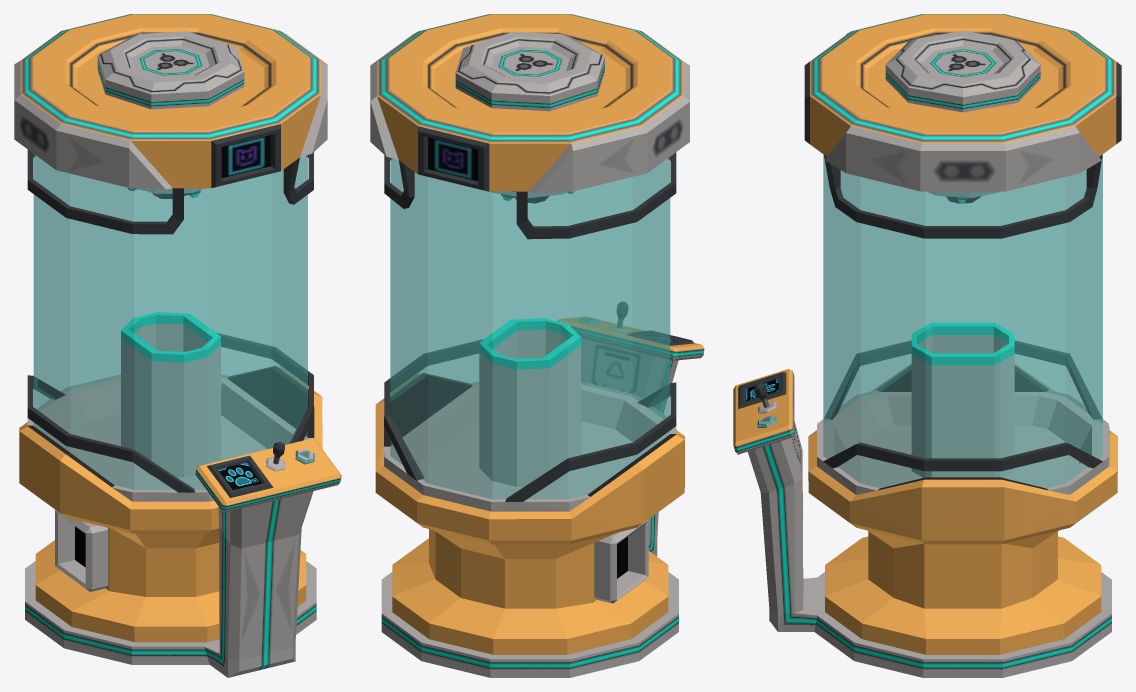
The model's file is SM_Prop_Claw_Machine_01.fbx.
3 views of the same model, side by side, from view 1: azimuth 30°, elevation 25°; view 2: azimuth 150°, elevation 25°; view 3: azimuth 270°, elevation 25° (orthographic). The views are drawn at different scales.
Parts seen in each view (by area): view 1: SM_Prop_Claw_Machine_01, SM_Prop_Claw_Machine_01_Glass; view 2: SM_Prop_Claw_Machine_01, SM_Prop_Claw_Machine_01_Glass; view 3: SM_Prop_Claw_Machine_01, SM_Prop_Claw_Machine_01_Glass.
Part boxes in pixels (bbox=[...]): SM_Prop_Claw_Machine_01: bbox=[14, 14, 341, 677]; SM_Prop_Claw_Machine_01_Glass: bbox=[33, 154, 307, 489]; SM_Prop_Claw_Machine_01: bbox=[370, 14, 704, 677]; SM_Prop_Claw_Machine_01_Glass: bbox=[390, 157, 670, 498]; SM_Prop_Claw_Machine_01: bbox=[733, 14, 1121, 677]; SM_Prop_Claw_Machine_01_Glass: bbox=[823, 154, 1102, 487].
Size of the model in its own units: 141 by 271 by 171.
